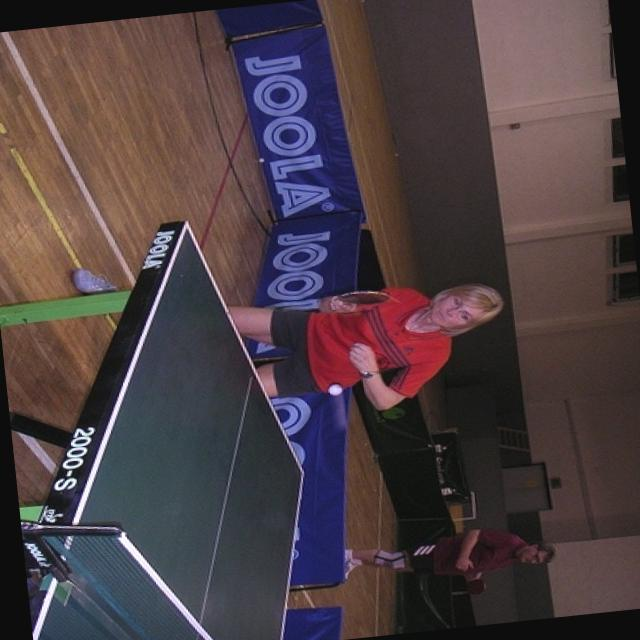TT Net: (31, 484, 214, 640)
TT Racket: (325, 282, 396, 314), (457, 571, 493, 601)
TT Table: (38, 223, 398, 640)
